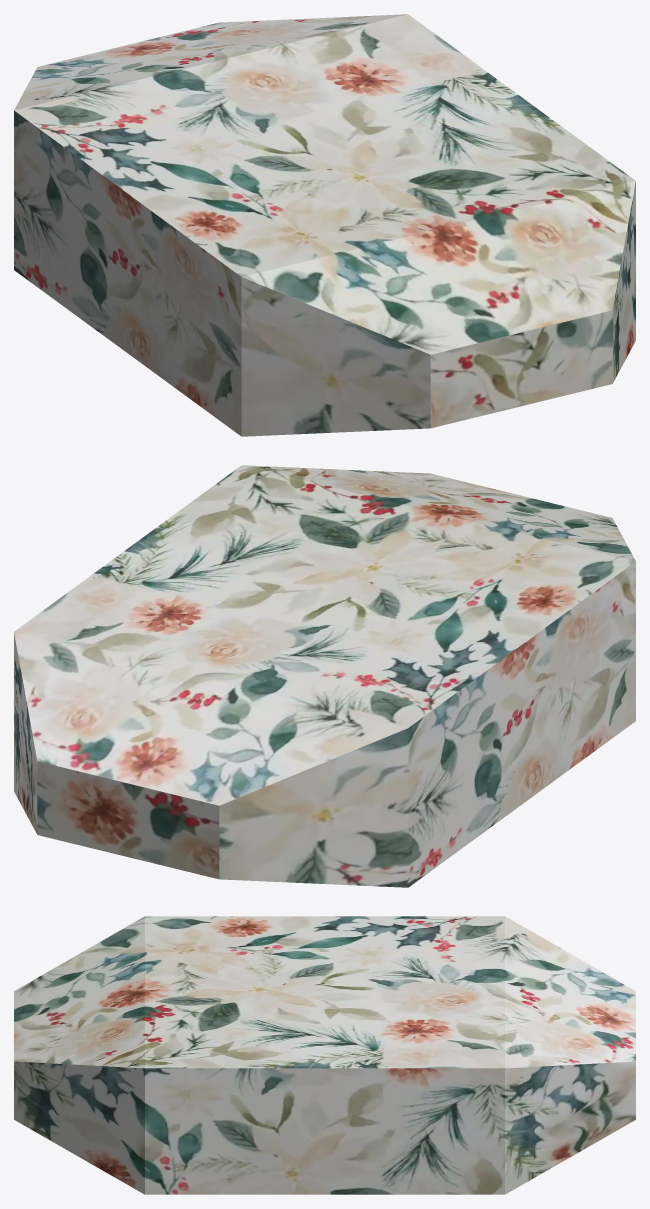
The model's file is Pillow.fbx.
3 renders of one model, top to bottom at view 1: azimuth 30°, elevation 25°; view 2: azimuth 150°, elevation 25°; view 3: azimuth 270°, elevation 25°, orthographic. The views are drawn at different scales.
Parts seen in each view (by area): view 1: Cube; view 2: Cube; view 3: Cube.
Part boxes in pixels (x1,y1,x2,y2): Cube: [14, 14, 635, 436]; Cube: [14, 465, 635, 887]; Cube: [14, 916, 635, 1194].
Bounding box in the file's own units: 200 × 77.39 × 345.
